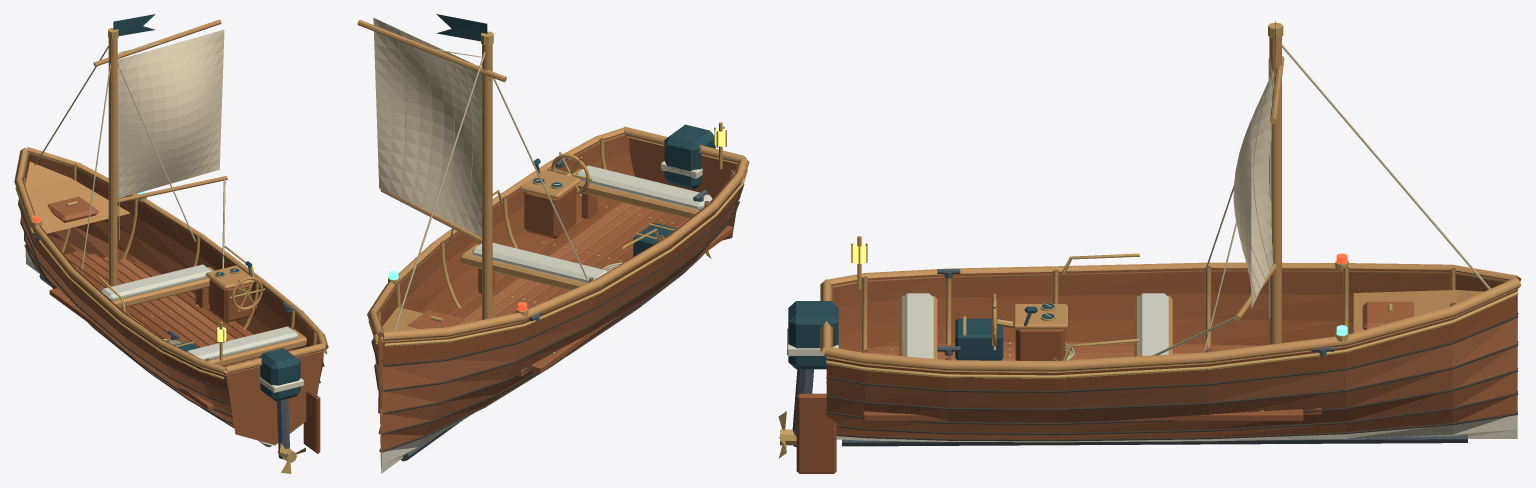
Rendered from sunwake-vessel.glb.
3 renders of one model, left to right at view 1: azimuth 30°, elevation 25°; view 2: azimuth 150°, elevation 25°; view 3: azimuth 270°, elevation 25°, orthographic. The views are drawn at different scales.
Parts seen in each view (by area): view 1: Hull, Sail, Rig, Rudder, Pennant, Wheel, Propeller; view 2: Hull, Sail, Rig, Pennant, Wheel; view 3: Hull, Sail, Rig, Rudder.
Boxes of the visible parts, left/top/right/bottom form: Hull: left=14, top=147, right=328, bottom=459; Sail: left=117, top=29, right=224, bottom=198; Rig: left=34, top=19, right=227, bottom=285; Rudder: left=303, top=389, right=320, bottom=453; Pennant: left=113, top=14, right=155, bottom=35; Wheel: left=229, top=275, right=265, bottom=311; Propeller: left=277, top=443, right=305, bottom=473; Hull: left=367, top=122, right=749, bottom=473; Sail: left=373, top=18, right=481, bottom=236; Rig: left=357, top=20, right=587, bottom=330; Pennant: left=436, top=14, right=487, bottom=41; Wheel: left=548, top=152, right=592, bottom=196; Hull: left=787, top=236, right=1521, bottom=447; Sail: left=1233, top=70, right=1273, bottom=308; Rig: left=1152, top=22, right=1490, bottom=355; Rudder: left=796, top=393, right=836, bottom=473.
Size of the model in its own units: 3.79 by 6.44 by 9.73.
